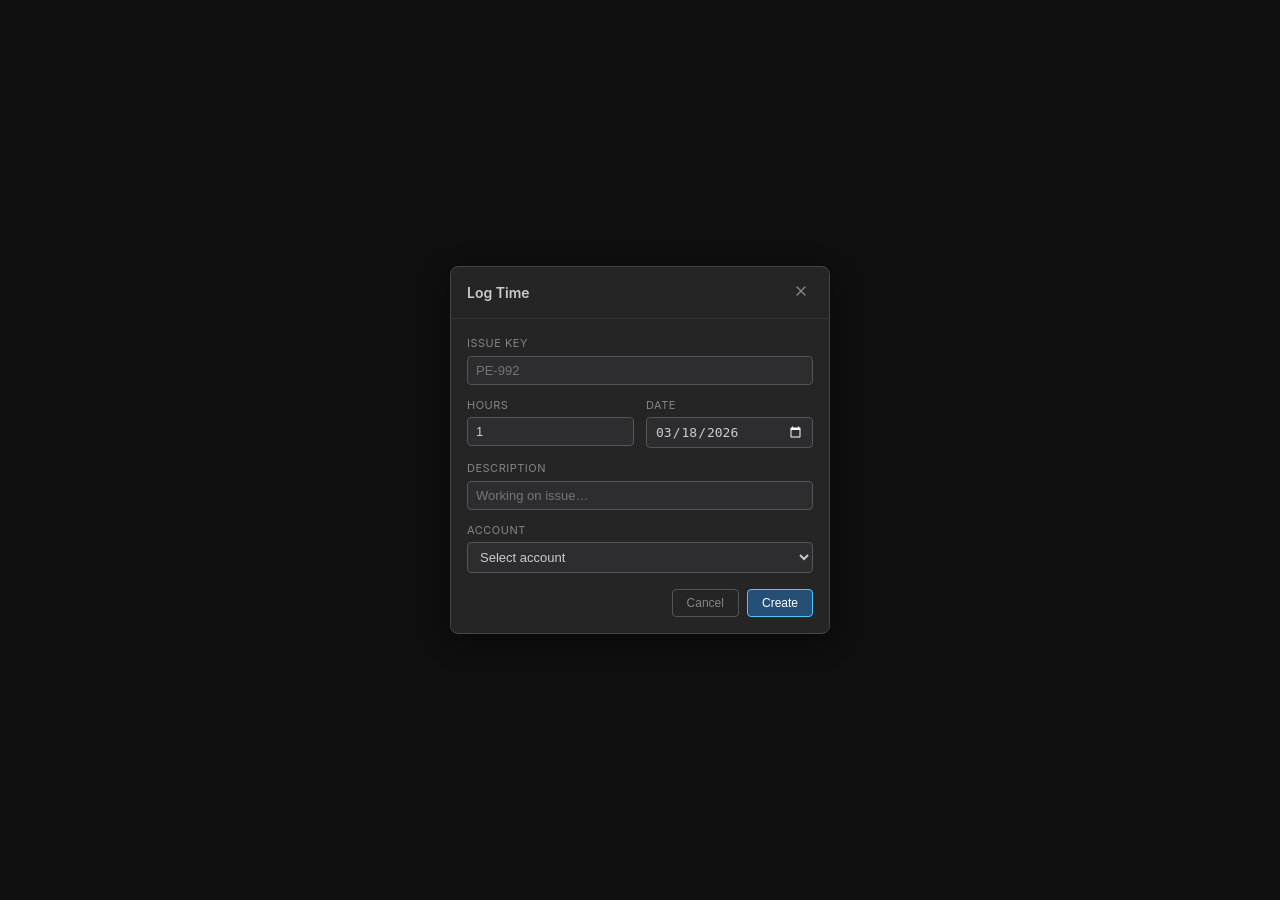
Test: TempoWorklogEditor › loads accounts and validates that an issue key is required
Step 1. Click the button "Create" → (780, 603), box [747,589,813,617]
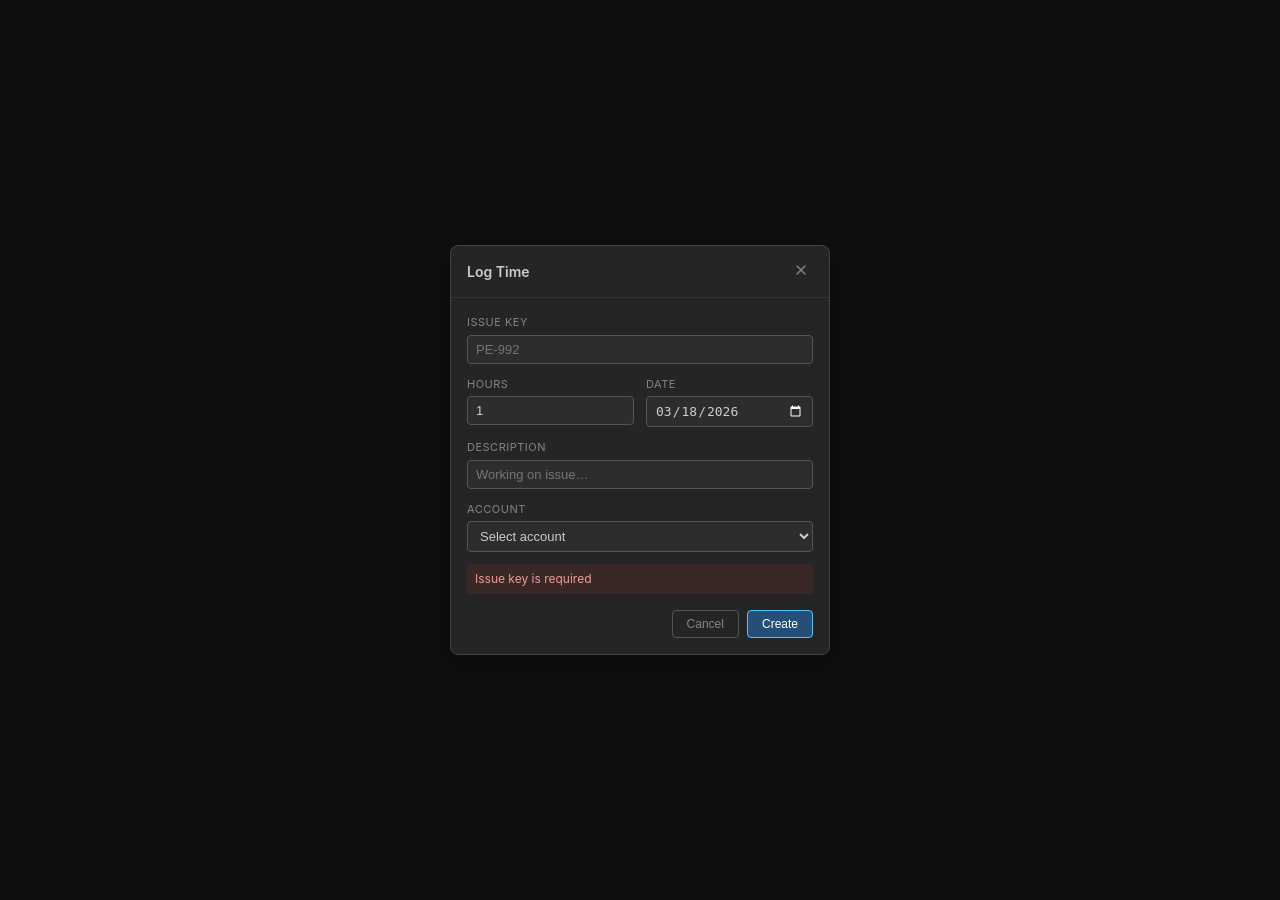
Expected: the text "Issue key is required" is shown, [467,564,813,594]
